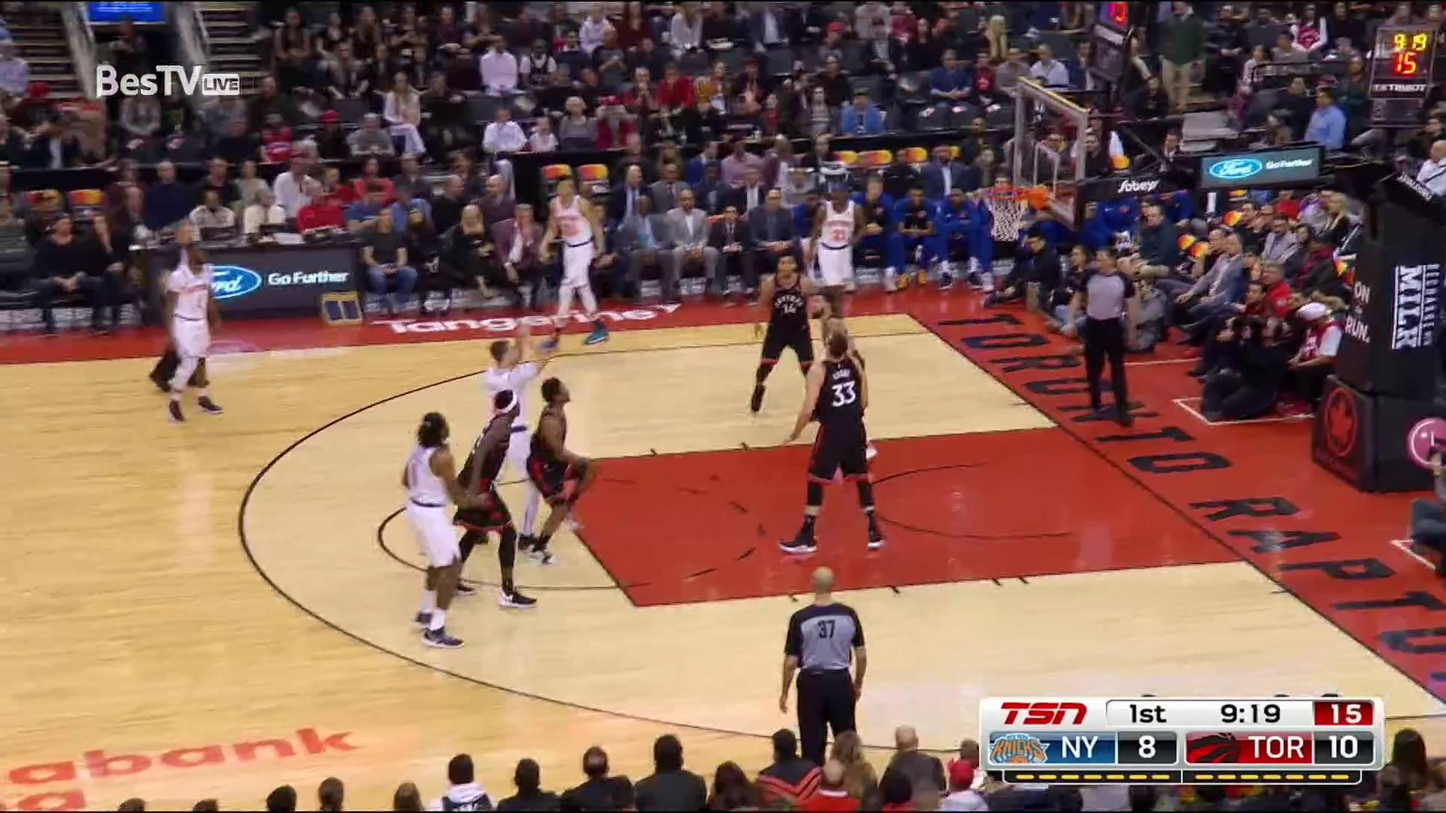basketball: (693, 77, 723, 103)
